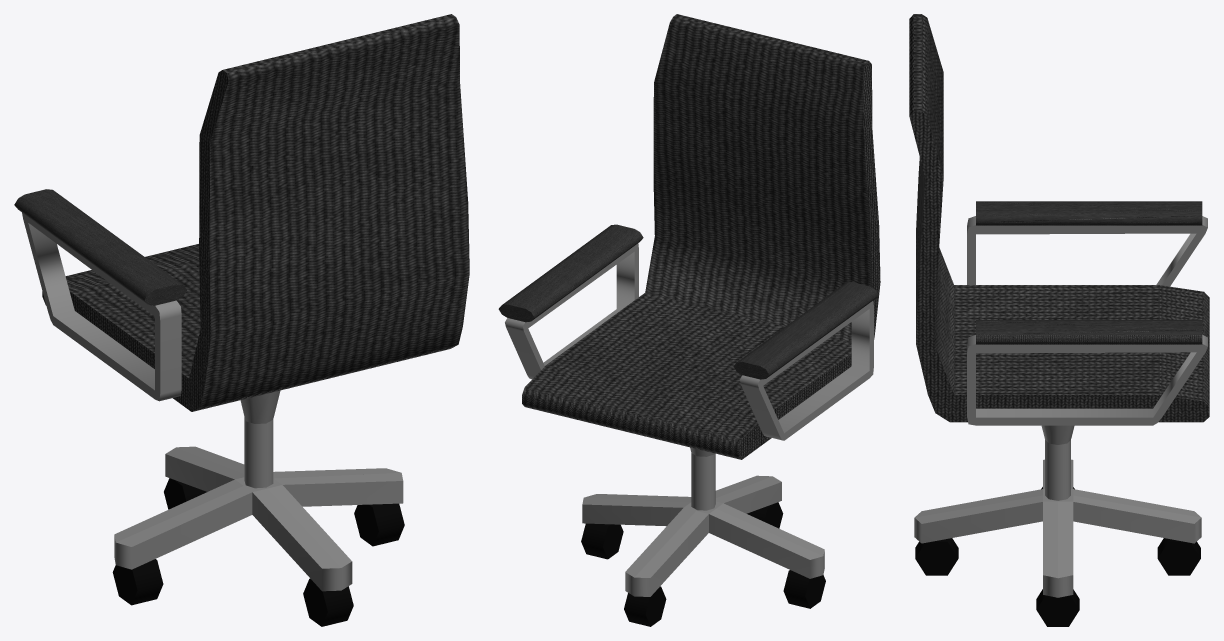
Rendered from chair.glb.
3 renders of one model, left to right at view 1: azimuth 30°, elevation 25°; view 2: azimuth 150°, elevation 25°; view 3: azimuth 270°, elevation 25°, orthographic. The views are drawn at different scales.
Visible parts, largest first — view 1: Chair_Seat_lambert3_0, Chair_BaseLegs_lambert3_0, Chair_ArmrestLeft_lambert3_0, Chair_BasePole_lambert3_0, Chair_WheelRight_lambert3_0, Chair_WheelLeft_lambert3_0, Chair_WheelBack_lambert3_0, Chair_WheelFront_lambert3_0; view 2: Chair_Seat_lambert3_0, Chair_BaseLegs_lambert3_0, Chair_ArmrestLeft_lambert3_0, Chair_ArmrestRight_lambert3_0, Chair_BasePole_lambert3_0, Chair_WheelRight_lambert3_0, Chair_WheelLeft_lambert3_0, Chair_WheelFront_lambert3_0; view 3: Chair_Seat_lambert3_0, Chair_ArmrestRight_lambert3_0, Chair_BaseLegs_lambert3_0, Chair_ArmrestLeft_lambert3_0, Chair_BasePole_lambert3_0, Chair_WheelFront_lambert3_0, Chair_WheelBack_lambert3_0, Chair_WheelRight_lambert3_0.
Part boxes in pixels (box(x1,y1,x2,y2)): Chair_Seat_lambert3_0: box(42, 14, 469, 411); Chair_BaseLegs_lambert3_0: box(114, 446, 403, 591); Chair_ArmrestLeft_lambert3_0: box(14, 189, 186, 401); Chair_BasePole_lambert3_0: box(240, 390, 280, 488); Chair_WheelRight_lambert3_0: box(354, 503, 404, 546); Chair_WheelLeft_lambert3_0: box(112, 559, 163, 605); Chair_WheelBack_lambert3_0: box(303, 578, 353, 626); Chair_WheelFront_lambert3_0: box(164, 478, 206, 509); Chair_Seat_lambert3_0: box(522, 14, 880, 459); Chair_BaseLegs_lambert3_0: box(582, 475, 824, 596); Chair_ArmrestLeft_lambert3_0: box(733, 282, 878, 440); Chair_ArmrestRight_lambert3_0: box(498, 224, 643, 379); Chair_BasePole_lambert3_0: box(690, 447, 715, 510); Chair_WheelRight_lambert3_0: box(581, 523, 623, 559); Chair_WheelLeft_lambert3_0: box(783, 570, 825, 608); Chair_WheelFront_lambert3_0: box(624, 586, 666, 626); Chair_Seat_lambert3_0: box(909, 14, 1209, 422); Chair_ArmrestRight_lambert3_0: box(967, 320, 1207, 425); Chair_BaseLegs_lambert3_0: box(914, 459, 1201, 597); Chair_ArmrestLeft_lambert3_0: box(967, 201, 1207, 286); Chair_BasePole_lambert3_0: box(1041, 425, 1074, 500); Chair_WheelFront_lambert3_0: box(1157, 538, 1200, 575); Chair_WheelBack_lambert3_0: box(915, 538, 958, 575); Chair_WheelRight_lambert3_0: box(1036, 589, 1079, 626).
Bounding box in the file's own units: 0.7497 × 1.29 × 0.6934.
1 material, 1 textured.
